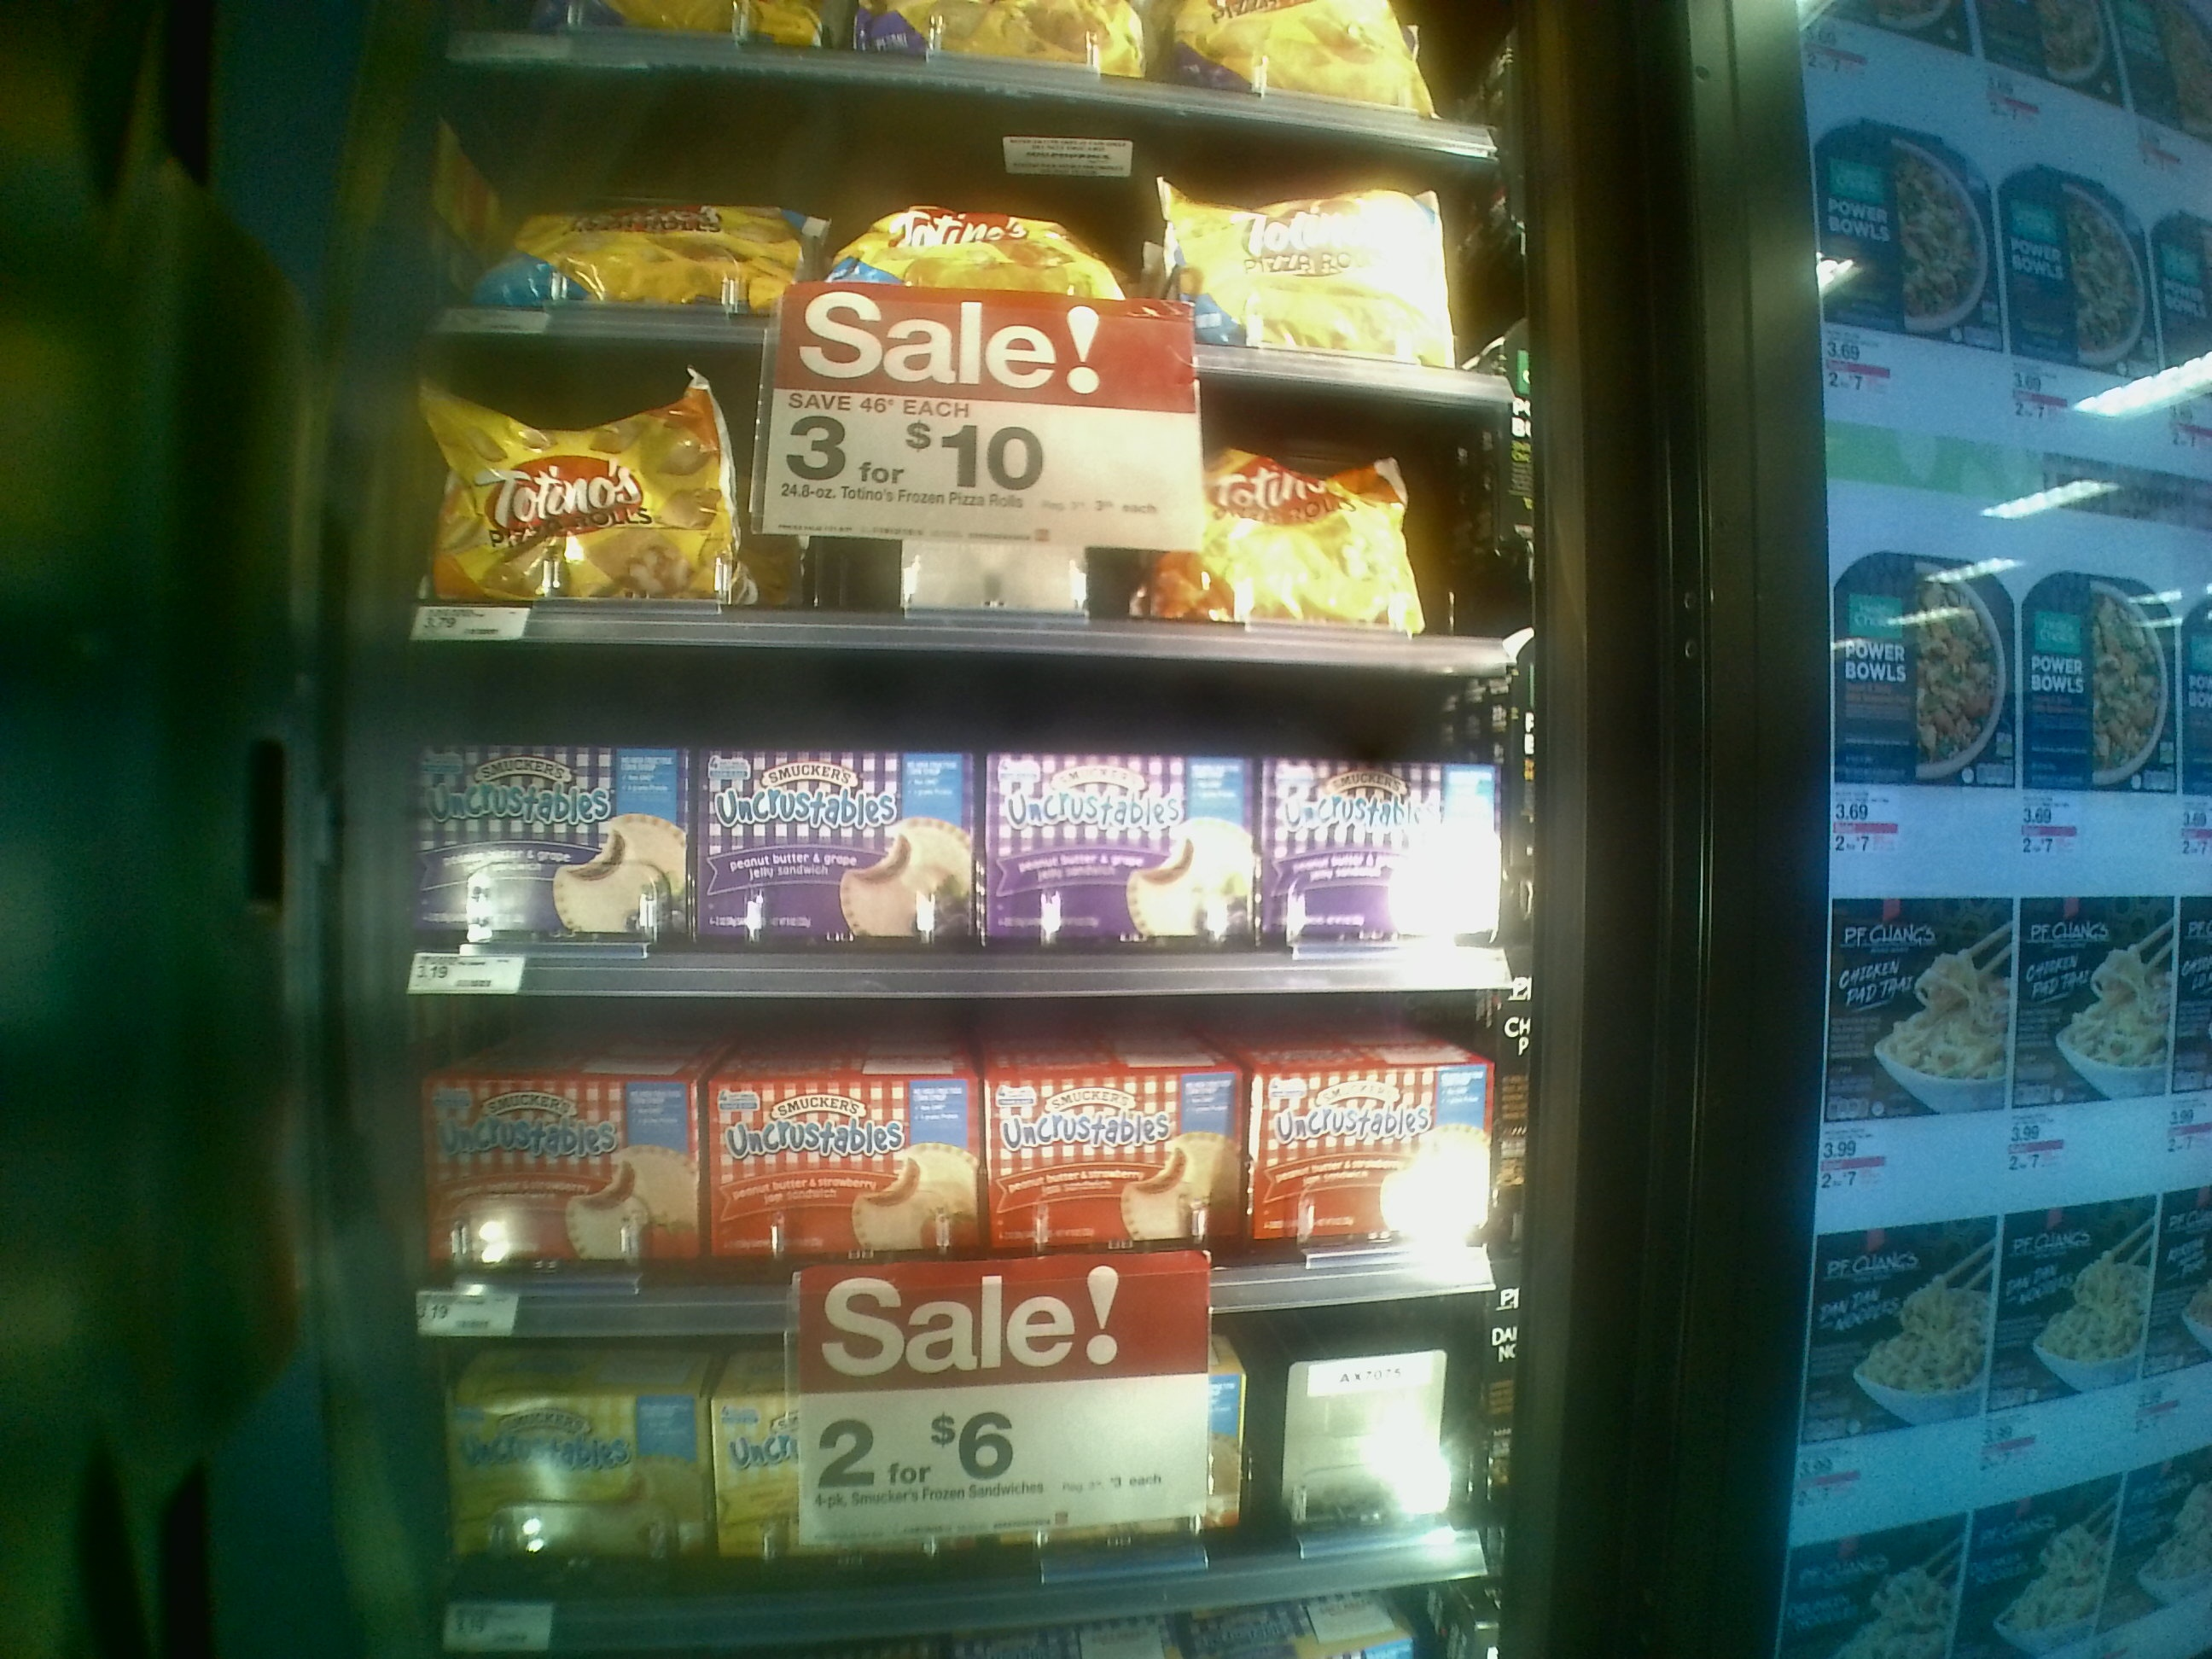shelf: (381, 627, 1507, 988), (394, 321, 1541, 673), (376, 999, 1491, 1298)
